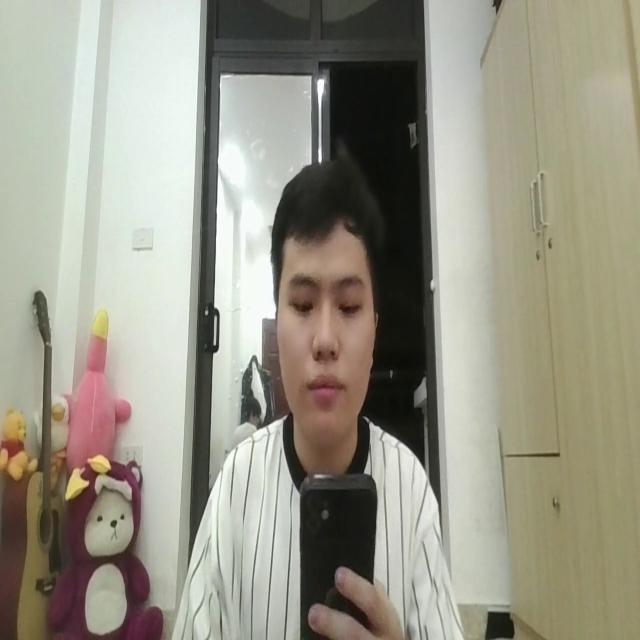phone: (297, 470, 377, 640)
student: (176, 153, 466, 640)
